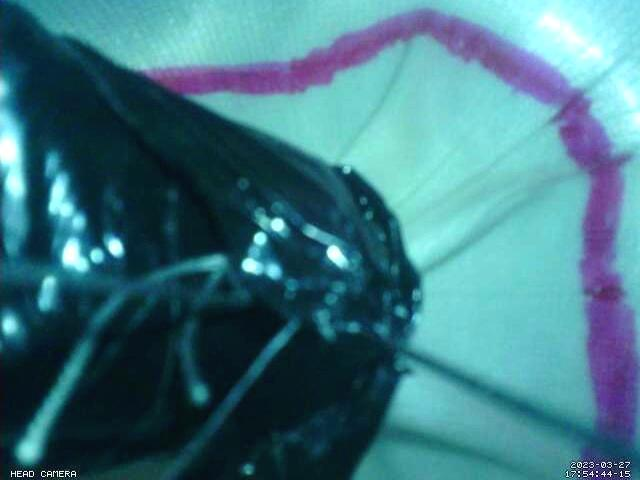red-circle: (139, 8, 640, 480)
